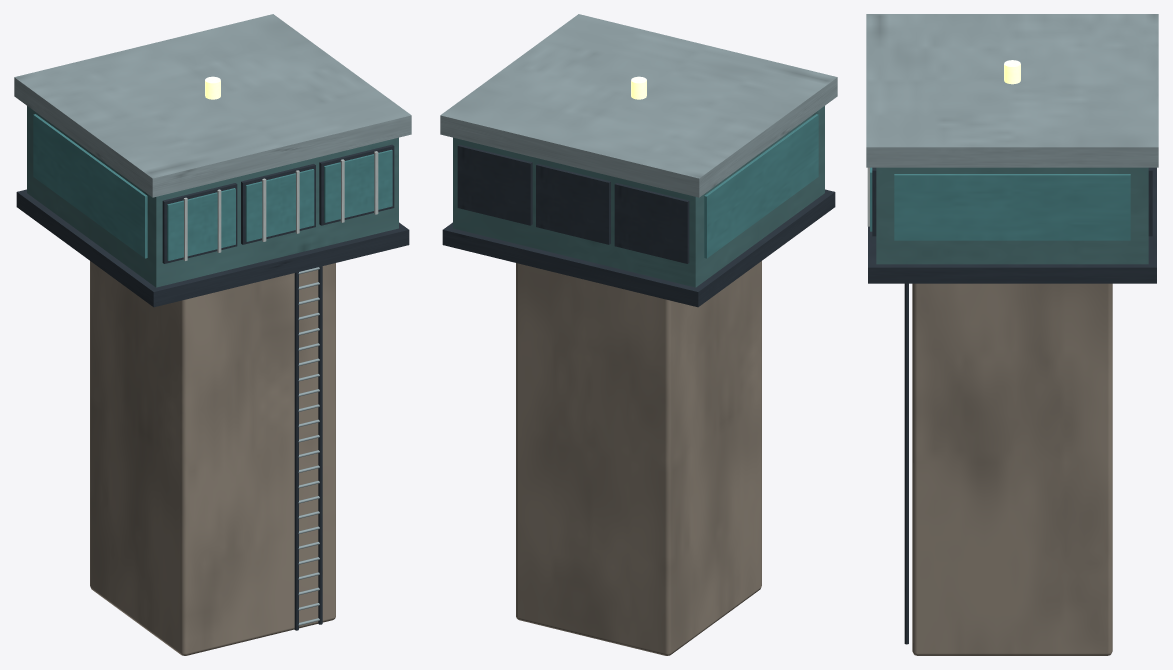
The model's file is ControlTower.glb.
The picture shows the model from 3 angles, left to right: view 1: azimuth 30°, elevation 25°; view 2: azimuth 150°, elevation 25°; view 3: azimuth 270°, elevation 25°; orthographic projection. The views are drawn at different scales.
Parts seen in each view (by area): view 1: Stair core, Roof, Cab, Cab overhang, Side windows, Glazing.001, Glazing, Glazing.002, Ladder rail, Ladder rail.001, Recess.002, Recess (+1 smaller); view 2: Stair core, Roof, Cab, Cab overhang, Side windows, Recess.005, Recess.003, Recess.004; view 3: Stair core, Roof, Side windows.001, Cab, Cab overhang, Ladder rail.001.
Boxes of the visible parts, left/top/right/bottom form: Stair core: left=90, top=261, right=335, bottom=655; Roof: left=14, top=14, right=411, bottom=197; Cab: left=27, top=106, right=398, bottom=287; Cab overhang: left=16, top=189, right=409, bottom=307; Side windows: left=33, top=114, right=147, bottom=258; Glazing.001: left=245, top=169, right=314, bottom=241; Glazing: left=167, top=188, right=235, bottom=260; Glazing.002: left=324, top=149, right=392, bottom=222; Ladder rail: left=294, top=272, right=298, bottom=630; Ladder rail.001: left=318, top=266, right=322, bottom=624; Recess.002: left=319, top=144, right=394, bottom=225; Recess: left=162, top=183, right=237, bottom=263; Stair core: left=516, top=261, right=761, bottom=655; Roof: left=440, top=14, right=837, bottom=197; Cab: left=453, top=106, right=824, bottom=287; Cab overhang: left=442, top=189, right=835, bottom=307; Side windows: left=704, top=114, right=818, bottom=258; Recess.005: left=457, top=144, right=532, bottom=225; Recess.003: left=614, top=183, right=689, bottom=263; Recess.004: left=536, top=164, right=610, bottom=244; Stair core: left=912, top=283, right=1112, bottom=655; Roof: left=866, top=14, right=1158, bottom=167; Side windows.001: left=894, top=174, right=1130, bottom=240; Cab: left=876, top=167, right=1148, bottom=264; Cab overhang: left=868, top=167, right=1156, bottom=283; Ladder rail.001: left=904, top=283, right=908, bottom=644.
Size of the model in its own units: 5.68 by 11 by 5.26.
7 materials, 7 textured.
